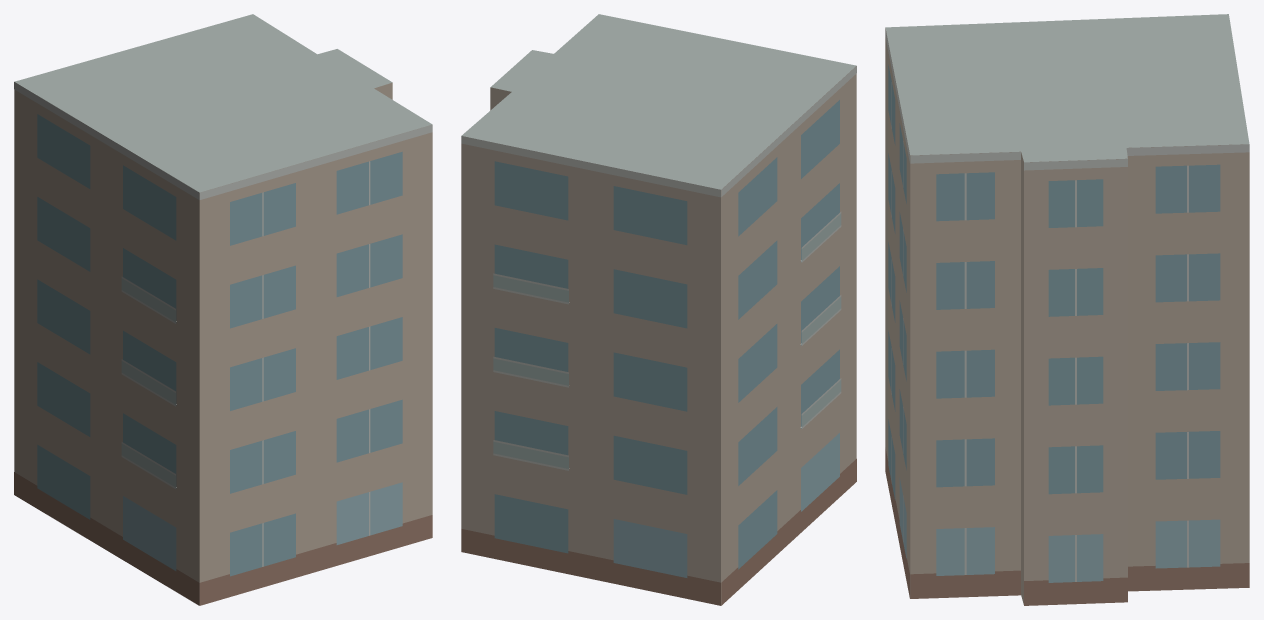
File: survey-upis-32525060.glb
The picture shows the model from 3 angles, left to right: view 1: azimuth 30°, elevation 25°; view 2: azimuth 150°, elevation 25°; view 3: azimuth 270°, elevation 25°; orthographic projection. The views are drawn at different scales.
Visible parts, largest first — view 1: survey-upis-32525060.tmp; view 2: survey-upis-32525060.tmp; view 3: survey-upis-32525060.tmp.
Part boxes in pixels (x1,y1,x2,y2): survey-upis-32525060.tmp: [14, 14, 432, 605]; survey-upis-32525060.tmp: [461, 14, 856, 605]; survey-upis-32525060.tmp: [885, 14, 1249, 605].
Bounding box in the file's own units: 9.48 × 13.2 × 9.83.
